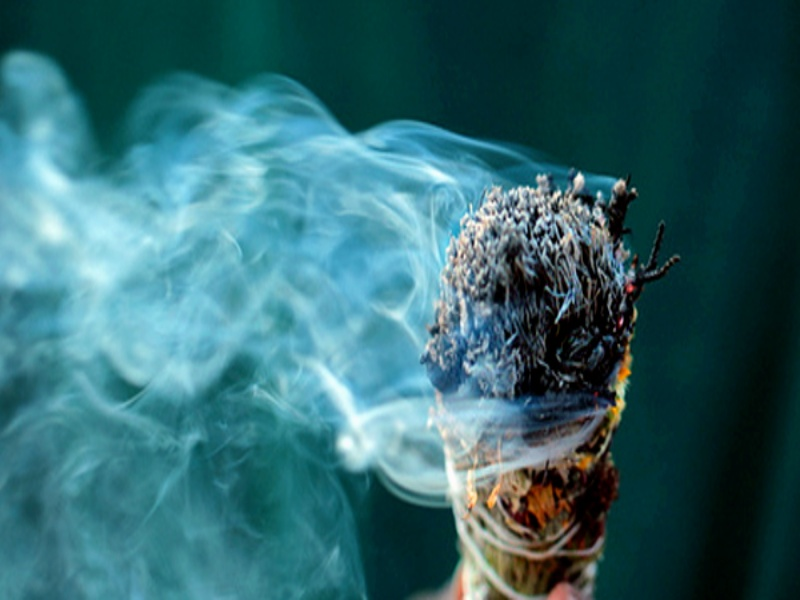smoke: (1, 97, 479, 577)
